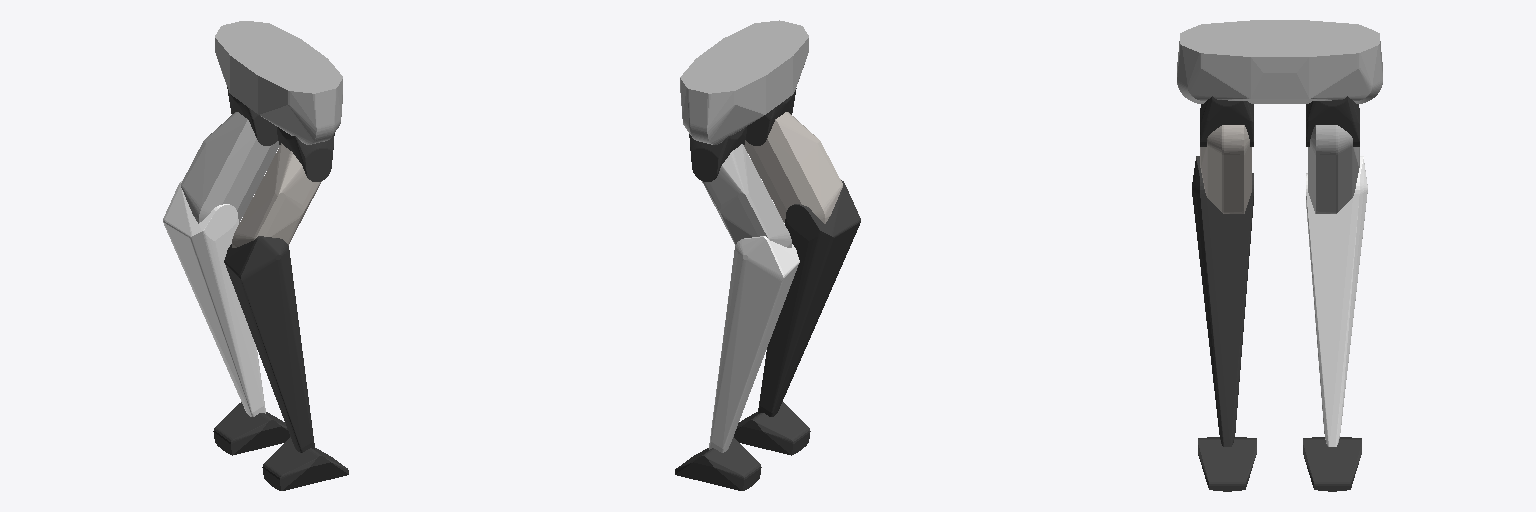
The robot description file, URDF, robot "spryped_urdf_rev06":
<?xml version="1.0" encoding="utf-8"?>
<!-- This URDF was automatically created by SolidWorks to URDF Exporter! Originally created by [author] ([email redacted]) 
     Commit Version: 1.5.1-0-g916b5db  Build Version: 1.5.7152.31018
     For more information, please see http://wiki.ros.org/sw_urdf_exporter -->
<robot
  name="spryped_urdf_rev06">
  <link
    name="body">
    <inertial>
      <origin
        xyz="0.047181 -3.0609E-06 0.076165"
        rpy="0 0 0" />
      <mass
        value="3.7038" />
      <inertia
        ixx="0.0033545"
        ixy="-3.2672E-09"
        ixz="8.3384E-06"
        iyy="0.0042956"
        iyz="-2.3336E-06"
        izz="0.0059126" />
    </inertial>
    <visual>
      <origin
        xyz="0 0 0"
        rpy="0 0 0" />
      <geometry>
        <mesh
          filename="body.obj" />
      </geometry>
      <material
        name="">
        <color
          rgba="0.75294 0.75294 0.75294 1" />
      </material>
    </visual>
    <collision>
      <origin
        xyz="0 0 0"
        rpy="0 0 0" />
      <geometry>
        <mesh
          filename="body.obj" />
      </geometry>
    </collision>
  </link>
  <link
    name="left femur">
    <inertial>
      <origin
        xyz="0.00069777 0.056842 0.0014637"
        rpy="0 0 0" />
      <mass
        value="1.30999" />
      <inertia
        ixx="0.00070116"
        ixy="3.5726E-05"
        ixz="9.483E-08"
        iyy="0.00059024"
        iyz="-3.5642E-05"
        izz="0.00069104" />
    </inertial>
    <visual>
      <origin
        xyz="0 0 0"
        rpy="0 0 0" />
      <geometry>
        <mesh
          filename="left femur.obj"  />
      </geometry>
      <material
        name="">
        <color
          rgba="0.29804 0.29804 0.29804 1"  />
      </material>
    </visual>
    <collision>
      <origin
        xyz="0 0 0"
        rpy="0 0 0" />
      <geometry>
        <mesh
          filename="left femur.obj"  />
      </geometry>
    </collision>
  </link>
  <joint
    name="1"
    type="revolute">
    <origin
      xyz="0.051822 0.1 0.055904"
      rpy="-1.5708 0 0" />
    <parent
      link="body" />
    <child
      link="left femur" />
    <axis
      xyz="1 0 0" />
    <limit
      lower="-3.14"
      upper="3.14"
      effort="80"
      velocity="10" />
    <dynamics damping="0.0" friction="0.0"/>
  </joint>
  <link
    name="left tibiotarsus">
    <inertial>
      <origin
        xyz="-0.0535 0.08423 -0.00048074"
        rpy="0 0 0" />
      <mass
        value="1.8773" />
      <inertia
        ixx="0.0034958"
        ixy="0.0014826"
        ixz="-8.2901E-08"
        iyy="0.0022584"
        iyz="1.2361E-07"
        izz="0.0053351" />
    </inertial>
    <visual>
      <origin
        xyz="0 0 0"
        rpy="0 0 0" />
      <geometry>
        <mesh
          filename="left tibiotarsus.obj" />
      </geometry>
      <material
        name="">
        <color
          rgba="0.75294 0.75294 0.75294 1" />
      </material>
    </visual>
    <collision>
      <origin
        xyz="0 0 0"
        rpy="0 0 0" />
      <geometry>
        <mesh
          filename="left tibiotarsus.obj"  />
      </geometry>
    </collision>
  </link>
  <joint
    name="2"
    type="revolute">
    <origin
      xyz="0 0.114 0"
      rpy="0 0 0" />
    <parent
      link="left femur" />
    <child
      link="left tibiotarsus" />
    <axis
      xyz="0 0 -1" />
    <limit
      lower="-3.14"
      upper="3.14"
      effort="80"
      velocity="15" />
    <dynamics damping="0.0" friction="0.0"/>
  </joint>
  <link
    name="left tarsometatarsus">
    <inertial>
      <origin
        xyz="0.053129 0.093369 0.015338"
        rpy="0 0 0" />
      <mass
        value="0.38839" />
      <inertia
        ixx="0.00096573"
        ixy="-0.00056636"
        ixz="-1.259E-05"
        iyy="0.0010982"
        iyz="4.5106E-05"
        izz="0.0015965" />
    </inertial>
    <visual>
      <origin
        xyz="0 0 0"
        rpy="0 0 0" />
      <geometry>
        <mesh
          filename="left tarsometatarsus.obj" />
      </geometry>
      <material
        name="">
        <color
          rgba="1 1 1 1" />
      </material>
    </visual>
    <collision>
      <origin
        xyz="0 0 0"
        rpy="0 0 0" />
      <geometry>
        <mesh
          filename="left tarsometatarsus.obj" />
      </geometry>
    </collision>
  </link>
  <joint
    name="3"
    type="revolute">
    <origin
      xyz="-0.105453933582408 0.168761571135129 0"
      rpy="0 0 0.558505360638189" />
    <parent
      link="left tibiotarsus" />
    <child
      link="left tarsometatarsus" />
    <axis
      xyz="0 0 -1" />
    <limit
      lower="-3.14"
      upper="3.14"
      effort="80"
      velocity="15" />
    <dynamics damping="0.0" friction="0.0"/>
  </joint>
  <link
    name="left toe">
    <inertial>
      <origin
        xyz="-0.015193 0.829454 -8.5534E-11"
        rpy="0 0 0" />
      <mass
        value="0.11189" />
      <inertia
        ixx="4.0659E-05"
        ixy="-3.5337E-05"
        ixz="7.6361E-13"
        iyy="0.00018716"
        iyz="7.4475E-14"
        izz="0.00021756" />
    </inertial>
    <visual>
      <origin
        xyz="0 0 0"
        rpy="0 0 0" />
      <geometry>
        <mesh
          filename="left toe.obj"  scale="1 1 3.5" />
      </geometry>
      <material
        name="">
        <color
          rgba="0.29804 0.29804 0.29804 1" />
      </material>
    </visual>
    <collision>
      <origin
        xyz="0 0 0"
        rpy="0 0 0" />
      <geometry>
        <mesh
          filename="left toe.obj" scale="1 1 3.5" />
      </geometry>
    </collision>
  </link>
  <joint
    name="4"
    type="revolute">
    <origin
      xyz="0.348429623081206 0.358603956697683 -0.000249999999999057"
      rpy="0 0 -0.771008986271208" />
    <parent
      link="left tarsometatarsus" />
    <child
      link="left toe" />
    <axis
      xyz="0 0 -1" />
    <limit
      lower="-3.14"
      upper="3.14"
      effort="80"
      velocity="15" />
    <dynamics damping="0.0" friction="0.0"/>
  </joint>
  <link
    name="right femur">
    <inertial>
      <origin
        xyz="0.00069773 0.056842 -0.0014638"
        rpy="0 0 0" />
      <mass
        value="1.30999" />
      <inertia
        ixx="0.00070116"
        ixy="3.5726E-05"
        ixz="-9.5179E-08"
        iyy="0.00059025"
        iyz="3.5642E-05"
        izz="0.00069104" />
    </inertial>
    <visual>
      <origin
        xyz="0 0 0"
        rpy="0 0 0" />
      <geometry>
        <mesh
          filename="right femur.obj" />
      </geometry>
      <material
        name="">
        <color
          rgba="0.29804 0.29804 0.29804 1" />
      </material>
    </visual>
    <collision>
      <origin
        xyz="0 0 0"
        rpy="0 0 0" />
      <geometry>
        <mesh
          filename="right femur.obj" />
      </geometry>
    </collision>
  </link>
  <joint
    name="5"
    type="revolute">
    <origin
      xyz="0.051822 -0.1 0.055904"
      rpy="-1.5708 0 0" />
    <parent
      link="body" />
    <child
      link="right femur" />
    <axis
      xyz="1 0 0" />
    <limit
      lower="-3.14"
      upper="3.14"
      effort="80"
      velocity="10" />
    <dynamics damping="0.0" friction="0.0"/>
  </joint>
  <link
    name="right tibiotarsus">
    <inertial>
      <origin
        xyz="-0.053501 0.08423 0.00041314"
        rpy="0 0 0" />
      <mass
        value="1.8772" />
      <inertia
        ixx="0.0034958"
        ixy="0.0014826"
        ixz="7.9551E-08"
        iyy="0.0022584"
        iyz="-1.374E-07"
        izz="0.0053351" />
    </inertial>
    <visual>
      <origin
        xyz="0 0 0"
        rpy="0 0 0" />
      <geometry>
        <mesh
          filename="right tibiotarsus.obj" />
      </geometry>
      <material
        name="">
        <color
          rgba="0.77647 0.75686 0.73725 1" />
      </material>
    </visual>
    <collision>
      <origin
        xyz="0 0 0"
        rpy="0 0 0" />
      <geometry>
        <mesh
          filename="right tibiotarsus.obj" />
      </geometry>
    </collision>
  </link>
  <joint
    name="6"
    type="revolute">
    <origin
      xyz="0 0.114000000000013 0"
      rpy="0 0 0" />
    <parent
      link="right femur" />
    <child
      link="right tibiotarsus" />
    <axis
      xyz="0 0 1" />
    <limit
      lower="-3.14"
      upper="3.14"
      effort="80"
      velocity="15" />
    <dynamics damping="0.0" friction="0.0"/>
  </joint>
  <link
    name="right tarsometatarsus">
    <inertial>
      <origin
        xyz="0.053129 0.093369 -0.015837"
        rpy="0 0 0" />
      <mass
        value="0.38839" />
      <inertia
        ixx="0.00096573"
        ixy="-0.00056636"
        ixz="1.2589E-05"
        iyy="0.0010982"
        iyz="-4.5106E-05"
        izz="0.0015965" />
    </inertial>
    <visual>
      <origin
        xyz="0 0 0"
        rpy="0 0 0" />
      <geometry>
        <mesh
          filename="right tarsometatarsus.obj" />
      </geometry>
      <material
        name="">
        <color
          rgba="0.29804 0.29804 0.29804 1" />
      </material>
    </visual>
    <collision>
      <origin
        xyz="0 0 0"
        rpy="0 0 0" />
      <geometry>
        <mesh
          filename="right tarsometatarsus.obj" />
      </geometry>
    </collision>
  </link>
  <joint
    name="7"
    type="revolute">
    <origin
      xyz="-0.105453933582408 0.168761571135127 0"
      rpy="0 0 0.55850536063819" />
    <parent
      link="right tibiotarsus" />
    <child
      link="right tarsometatarsus" />
    <axis
      xyz="0 0 1" />
    <limit
      lower="-3.14"
      upper="3.14"
      effort="80"
      velocity="15" />
    <dynamics damping="0.0" friction="0.0"/>
  </joint>
  <link
    name="right toe">
    <inertial>
      <origin
        xyz="-0.015193 0.829454 -8.5534E-11"
        rpy="0 0 0" />
      <mass
        value="0.11189" />
      <inertia
        ixx="4.0659E-05"
        ixy="-3.5337E-05"
        ixz="7.6361E-13"
        iyy="0.00018716"
        iyz="7.4475E-14"
        izz="0.00021756" />
    </inertial>
    <visual>
      <origin
        xyz="0 0 0"
        rpy="0 0 0" />
      <geometry>
        <mesh
          filename="right toe.obj" scale="1 1 3.5"  />
      </geometry>
      <material
        name="">
        <color
          rgba="0.29804 0.29804 0.29804 1" />
      </material>
    </visual>
    <collision>
      <origin
        xyz="0 0 0"
        rpy="0 0 0" />
      <geometry>
        <mesh
          filename="right toe.obj" scale="1 1 3.5"  />
      </geometry>
    </collision>
  </link>
  <joint
    name="8"
    type="revolute">
    <origin
      xyz="0.348429623081197 0.358603956697689 -0.000250000000000111"
      rpy="0 0 -0.771008986271209" />
    <parent
      link="right tarsometatarsus" />
    <child
      link="right toe" />
    <axis
      xyz="0 0 1" />
    <limit
      lower="-3.14"
      upper="3.14"
      effort="80"
      velocity="15" />
    <dynamics damping="0.0" friction="0.0"/>
  </joint>
</robot>

--- What the picture shows (computed from the rendered views, not written in the file) ---
Views: 3 orthographic renders of the robot side by side, from view 1: azimuth 30°, elevation 25°; view 2: azimuth 150°, elevation 25°; view 3: azimuth 270°, elevation 25°.
Model spryped_urdf_rev06 with 9 links and 8 joints (8 revolute), rooted at body, posed every joint at zero.
Visible links, largest first — view 1: body, right tarsometatarsus, left tarsometatarsus, left tibiotarsus, right tibiotarsus, right toe, left toe, right femur, left femur; view 2: body, left tarsometatarsus, right tarsometatarsus, right tibiotarsus, left tibiotarsus, left toe, right toe, left femur, right femur; view 3: body, right tarsometatarsus, left tarsometatarsus, left tibiotarsus, right tibiotarsus, right toe, left toe, left femur, right femur.
Link boxes in pixels (x1=…): body: x1=215, y1=21, x2=342, y2=144; right tarsometatarsus: x1=224, y1=236, x2=314, y2=452; left tarsometatarsus: x1=163, y1=180, x2=265, y2=416; left tibiotarsus: x1=181, y1=112, x2=279, y2=223; right tibiotarsus: x1=232, y1=143, x2=321, y2=247; right toe: x1=262, y1=437, x2=348, y2=490; left toe: x1=213, y1=402, x2=289, y2=455; right femur: x1=277, y1=127, x2=334, y2=181; left femur: x1=227, y1=87, x2=277, y2=145; body: x1=680, y1=20, x2=808, y2=144; left tarsometatarsus: x1=709, y1=236, x2=799, y2=452; right tarsometatarsus: x1=758, y1=180, x2=860, y2=416; right tibiotarsus: x1=744, y1=112, x2=842, y2=223; left tibiotarsus: x1=702, y1=144, x2=791, y2=247; left toe: x1=675, y1=437, x2=761, y2=490; right toe: x1=734, y1=402, x2=810, y2=455; left femur: x1=689, y1=127, x2=746, y2=181; right femur: x1=746, y1=88, x2=796, y2=145; body: x1=1177, y1=20, x2=1382, y2=103; right tarsometatarsus: x1=1192, y1=156, x2=1253, y2=446; left tarsometatarsus: x1=1306, y1=156, x2=1367, y2=446; left tibiotarsus: x1=1308, y1=125, x2=1359, y2=213; right tibiotarsus: x1=1200, y1=125, x2=1251, y2=213; right toe: x1=1198, y1=437, x2=1256, y2=491; left toe: x1=1303, y1=437, x2=1361, y2=491; left femur: x1=1306, y1=96, x2=1359, y2=146; right femur: x1=1200, y1=96, x2=1253, y2=146.
Bounding box of the posed robot: 0.2695 × 0.393 × 0.9105 m (x, y, z).
Meshes: 9 distinct files referenced, 9 mesh visuals loaded (9 OBJ).